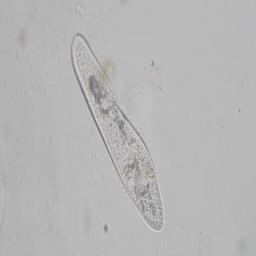Paramecium: (66, 32, 168, 229)
